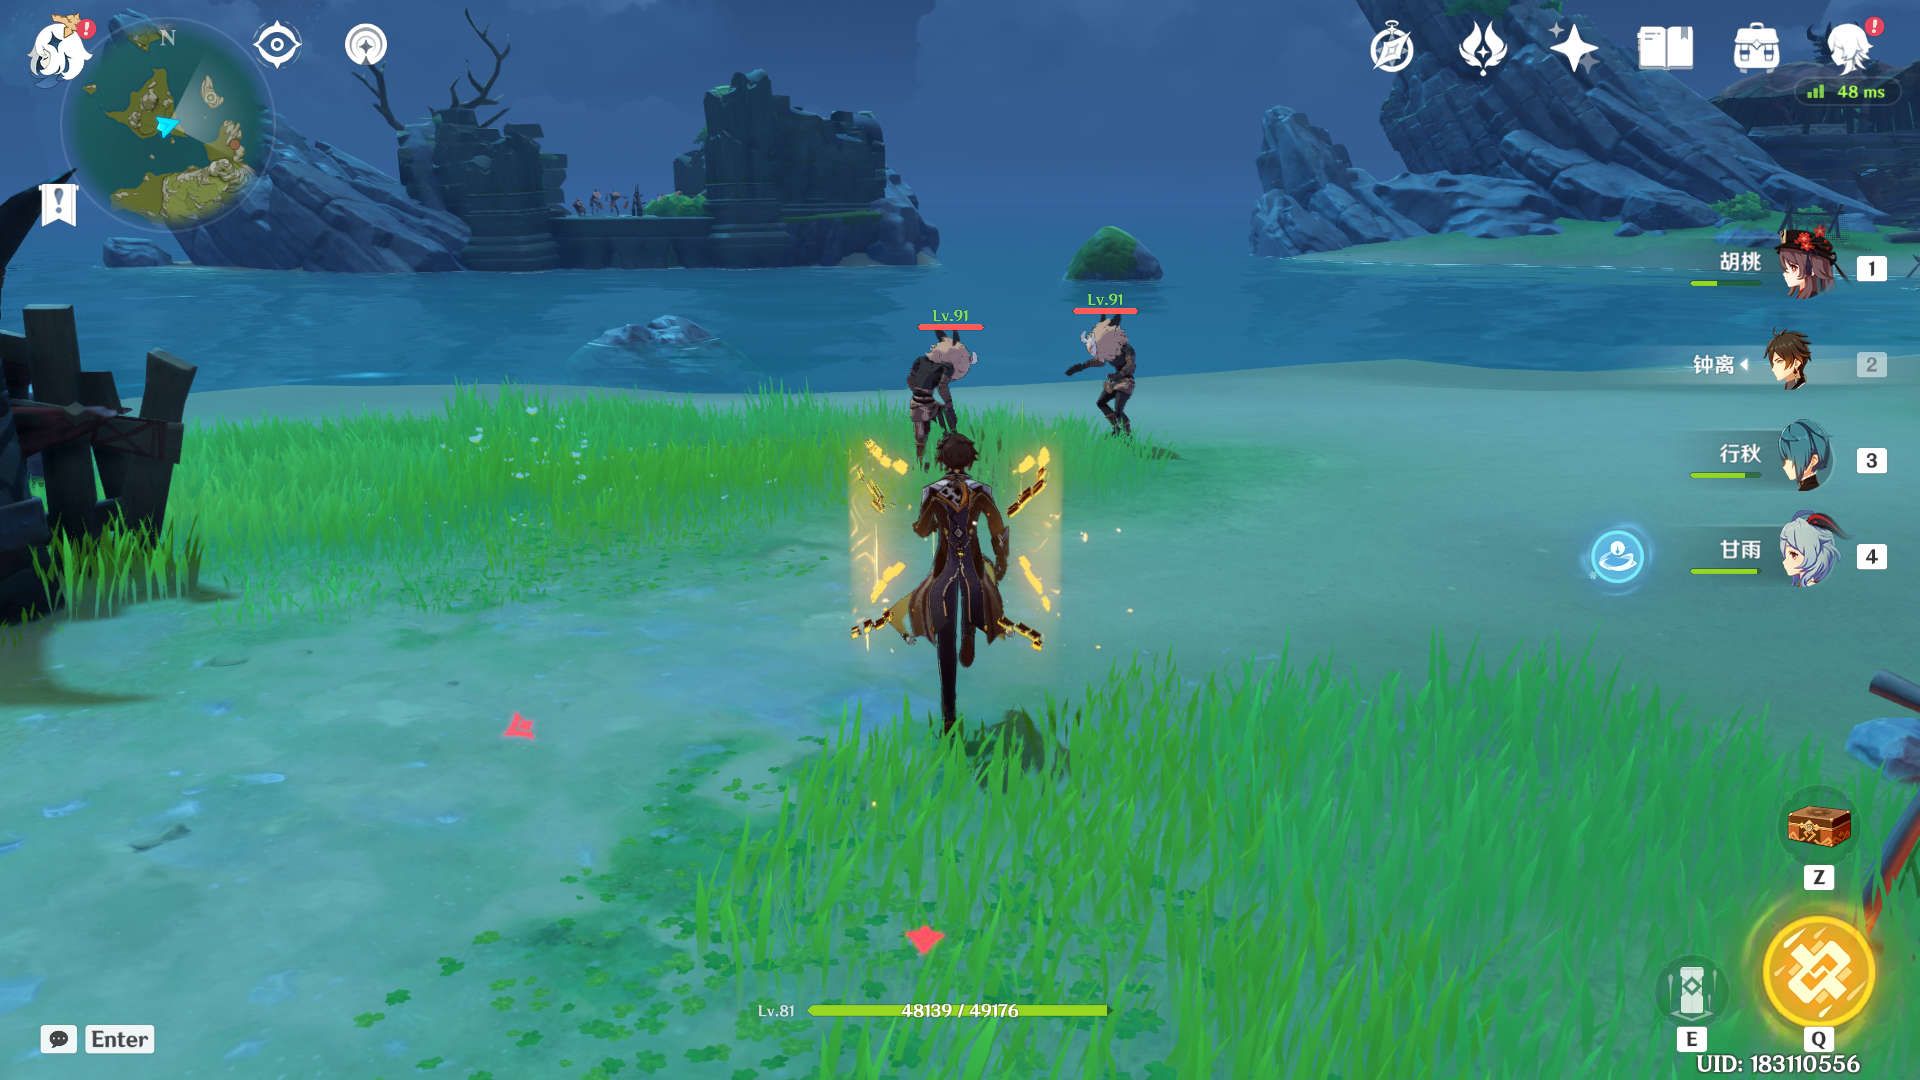character: (851, 404, 1091, 760)
hili: (857, 335, 1001, 492), (1044, 301, 1163, 469)
